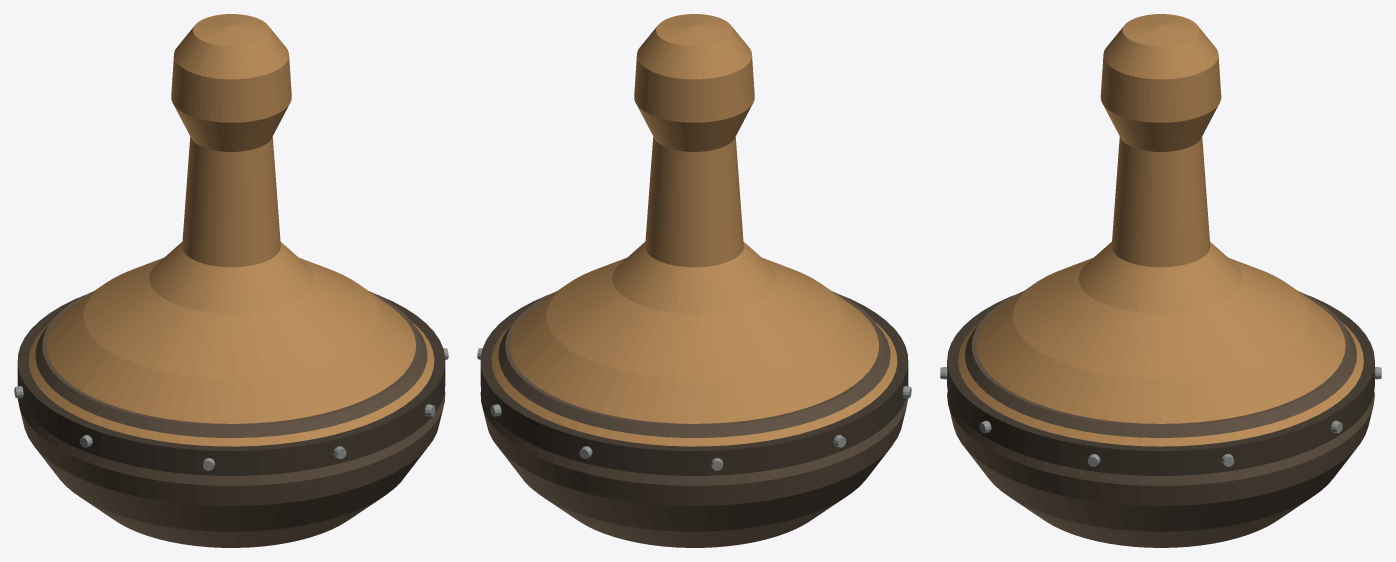
3 renders of one model, left to right at view 1: azimuth 30°, elevation 25°; view 2: azimuth 150°, elevation 25°; view 3: azimuth 270°, elevation 25°, orthographic.
Visible parts, largest first — view 1: WholeHollowBellStockAndWaistedGrip, WholeConvexInkingPad, WholeContinuousRetainingRim; view 2: WholeHollowBellStockAndWaistedGrip, WholeConvexInkingPad, WholeContinuousRetainingRim; view 3: WholeHollowBellStockAndWaistedGrip, WholeConvexInkingPad, WholeContinuousRetainingRim.
Boxes of the visible parts, x1,y1,x2,y2 form: WholeHollowBellStockAndWaistedGrip: [28, 14, 434, 446]; WholeConvexInkingPad: [17, 291, 445, 547]; WholeContinuousRetainingRim: [17, 294, 445, 475]; WholeHollowBellStockAndWaistedGrip: [491, 14, 897, 446]; WholeConvexInkingPad: [480, 291, 908, 547]; WholeContinuousRetainingRim: [480, 294, 908, 475]; WholeHollowBellStockAndWaistedGrip: [958, 14, 1363, 446]; WholeConvexInkingPad: [947, 291, 1374, 547]; WholeContinuousRetainingRim: [947, 295, 1374, 475].
Size of the model in its own units: 0.156 by 0.199 by 0.161.
